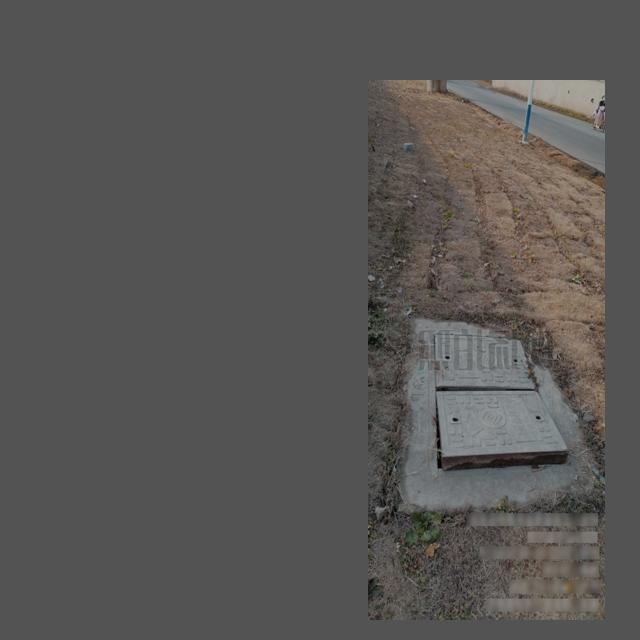uncovered: (433, 332, 571, 474)
